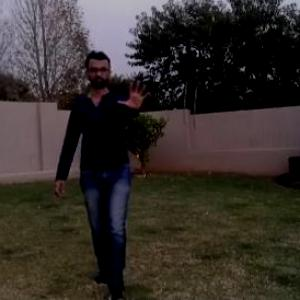follow_hand: (115, 75, 153, 114)
